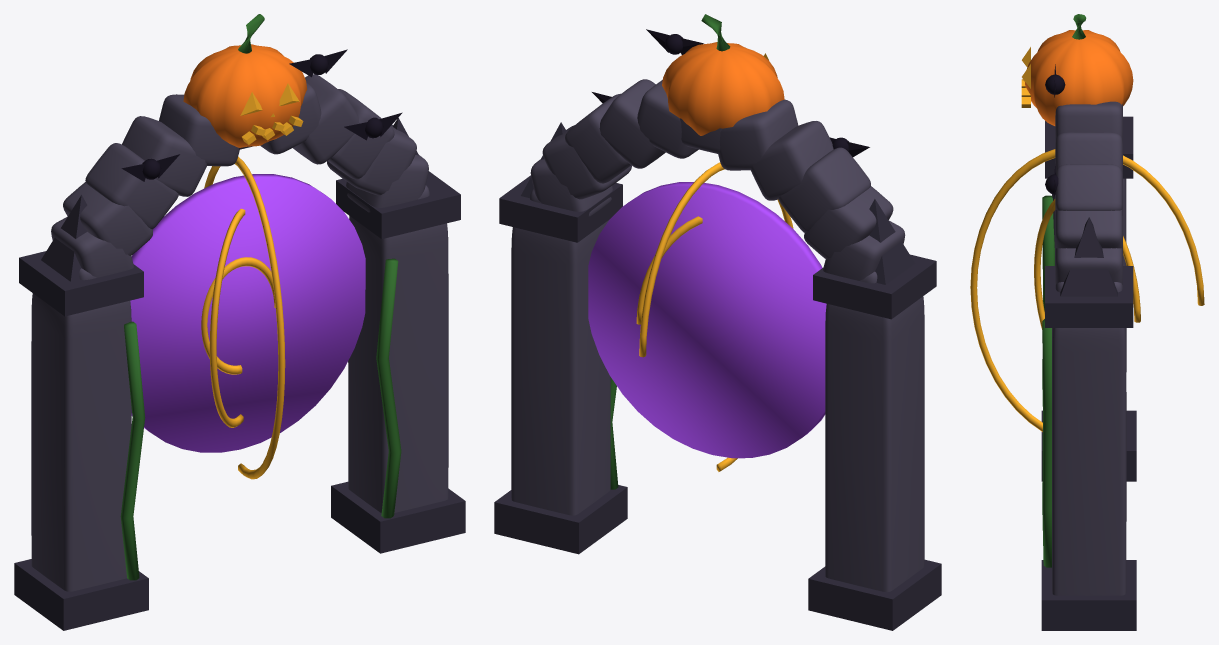
File: P_SpookyPortal.fbx
The picture shows the model from 3 angles, left to right: view 1: azimuth 30°, elevation 25°; view 2: azimuth 150°, elevation 25°; view 3: azimuth 270°, elevation 25°; orthographic projection. The views are drawn at different scales.
Parts seen in each view (by area): view 1: P_SpookyPortal__Stone, P_SpookyPortal__Swirl, P_SpookyPortal__StoneDark, P_SpookyPortal__Pumpkin, P_SpookyPortal__Vine, P_SpookyPortal__Glow, P_SpookyPortal__Bat; view 2: P_SpookyPortal__Stone, P_SpookyPortal__Swirl, P_SpookyPortal__StoneDark, P_SpookyPortal__Pumpkin, P_SpookyPortal__Glow, P_SpookyPortal__Bat, P_SpookyPortal__Vine; view 3: P_SpookyPortal__Stone, P_SpookyPortal__StoneDark, P_SpookyPortal__Pumpkin, P_SpookyPortal__Glow, P_SpookyPortal__Vine, P_SpookyPortal__Bat.
Boxes of the visible parts, <box> form: P_SpookyPortal__Stone: <box>31,74,448,591</box>; P_SpookyPortal__Swirl: <box>130,174,365,452</box>; P_SpookyPortal__StoneDark: <box>14,117,465,630</box>; P_SpookyPortal__Pumpkin: <box>183,44,307,147</box>; P_SpookyPortal__Vine: <box>120,14,401,580</box>; P_SpookyPortal__Glow: <box>201,83,303,479</box>; P_SpookyPortal__Bat: <box>121,49,402,181</box>; P_SpookyPortal__Stone: <box>511,79,924,592</box>; P_SpookyPortal__Swirl: <box>588,182,826,458</box>; P_SpookyPortal__StoneDark: <box>494,122,941,630</box>; P_SpookyPortal__Pumpkin: <box>662,42,784,135</box>; P_SpookyPortal__Glow: <box>636,53,793,471</box>; P_SpookyPortal__Bat: <box>592,29,869,156</box>; P_SpookyPortal__Vine: <box>610,14,730,489</box>; P_SpookyPortal__Stone: <box>1052,101,1126,595</box>; P_SpookyPortal__StoneDark: <box>1041,116,1136,630</box>; P_SpookyPortal__Pumpkin: <box>1025,30,1133,125</box>; P_SpookyPortal__Glow: <box>970,47,1204,431</box>; P_SpookyPortal__Vine: <box>1042,14,1086,567</box>; P_SpookyPortal__Bat: <box>1045,64,1065,197</box>.
Size of the model in its own units: 13.2 by 17.21 by 6.89.
